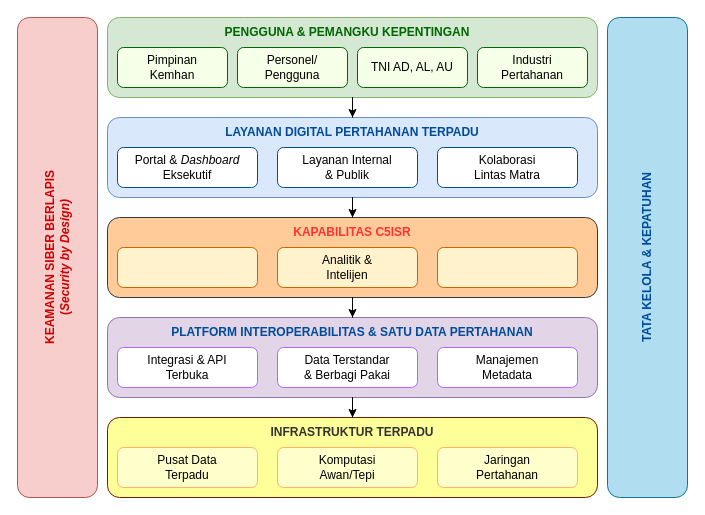
The diagram is 705 pixels wide and 515 high, and some of its shapes have lost their labels. The centre of each missing label's shape, as x and y in pixels:
Aplikasi Fungsional Terpadu: (507,267)
Komando-Kendali Terintegrasi (C2): (187,267)
